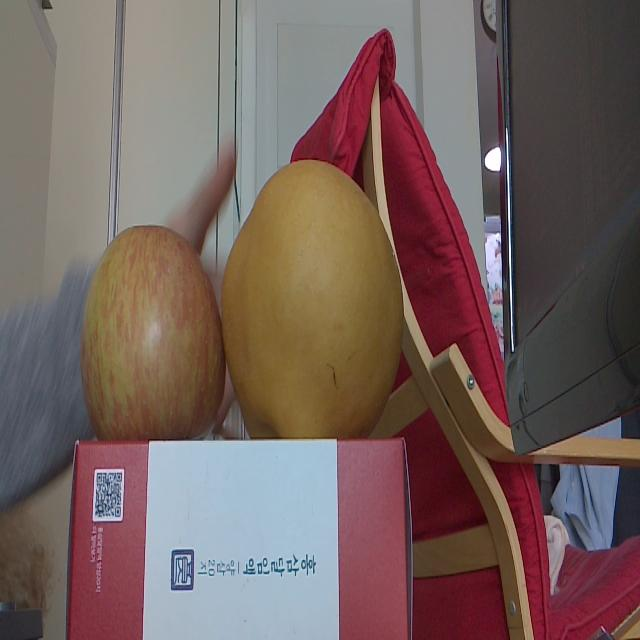apple: (81, 224, 226, 443)
pear: (224, 156, 408, 438)
